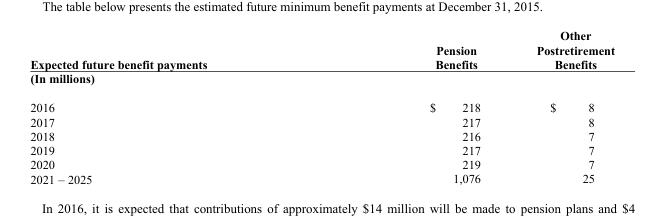table: (29, 28, 613, 185)
table column: (29, 28, 317, 185), (317, 28, 507, 185), (507, 28, 613, 185)
table column header: (29, 28, 613, 70)
table projected row header: (29, 70, 613, 92)
table row: (29, 28, 613, 70), (29, 70, 613, 92), (29, 92, 613, 114), (29, 170, 613, 185), (29, 114, 613, 128), (29, 128, 613, 142), (29, 142, 613, 156), (29, 156, 613, 170)
